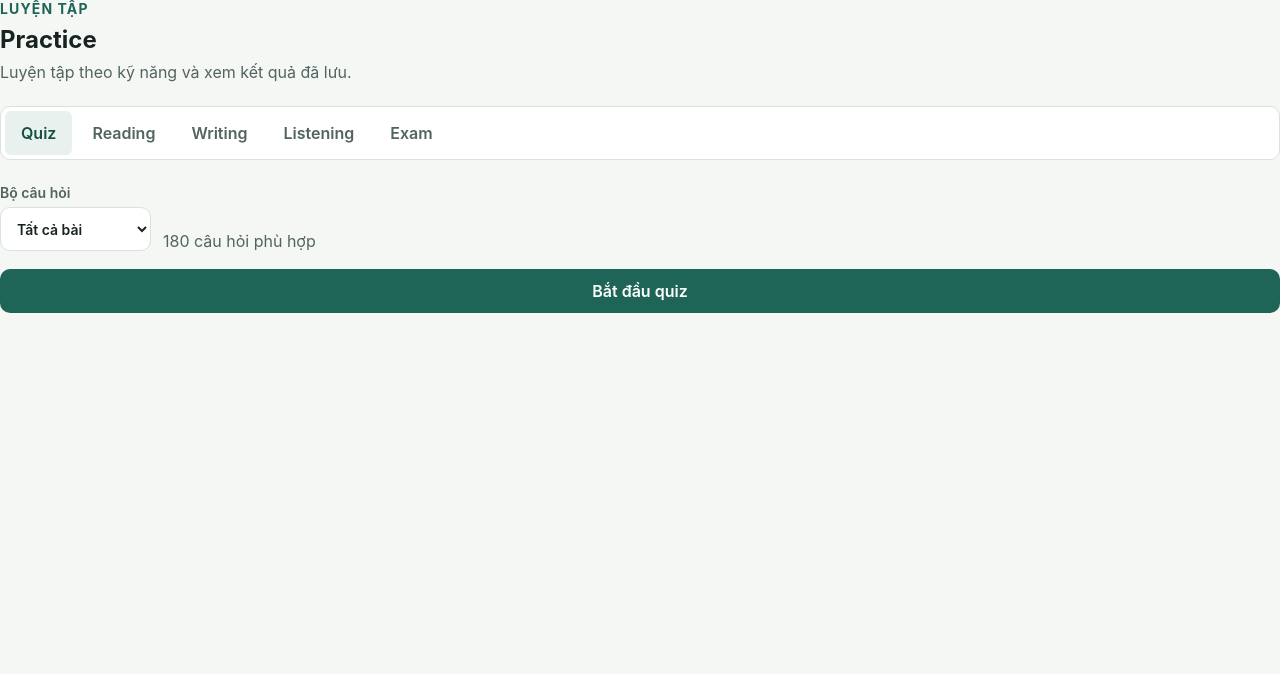
Test: PracticePage › renders a reading passage and reveals its translation
The image size is (1280, 674).
Click the tab "Reading" at (124, 133), box x1=76 y1=111 x2=171 y2=155
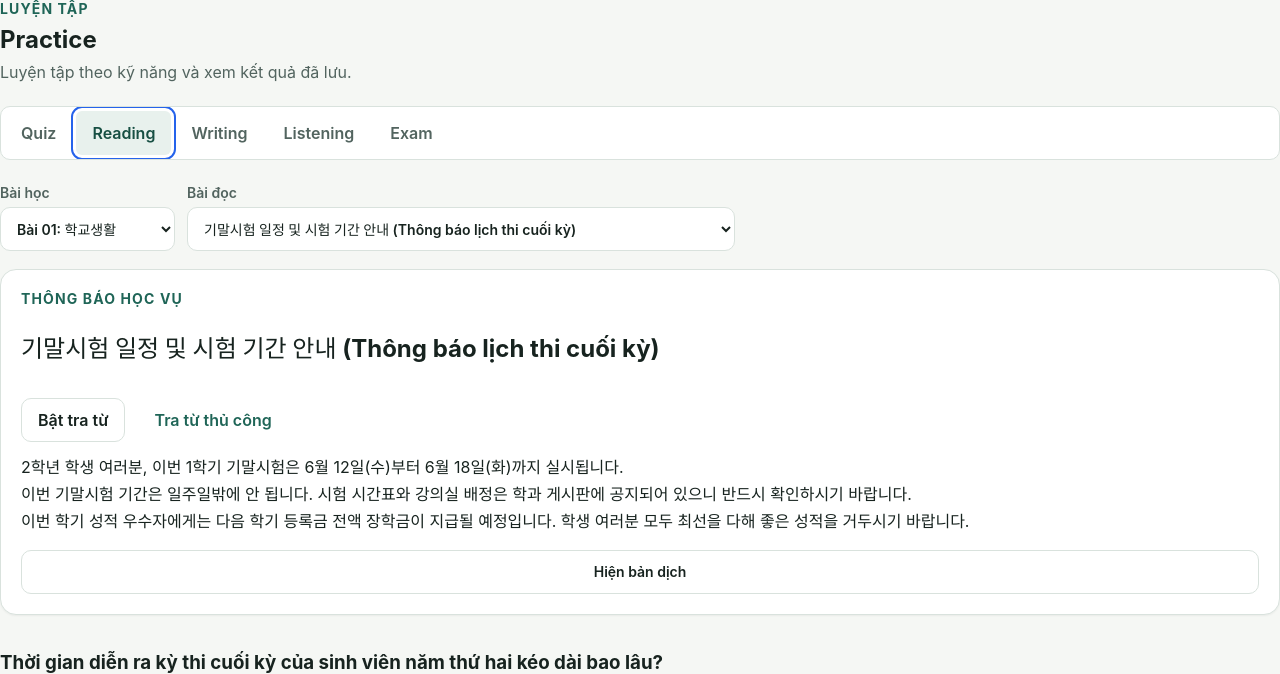
Expected: the heading "기말시험 일정 및 시험 기간 안내 (Thông báo lịch thi cuối kỳ)" is shown, x1=21 y1=334 x2=660 y2=363
Click the button "Hiện bản dịch" at (640, 572), box x1=21 y1=550 x2=1259 y2=594
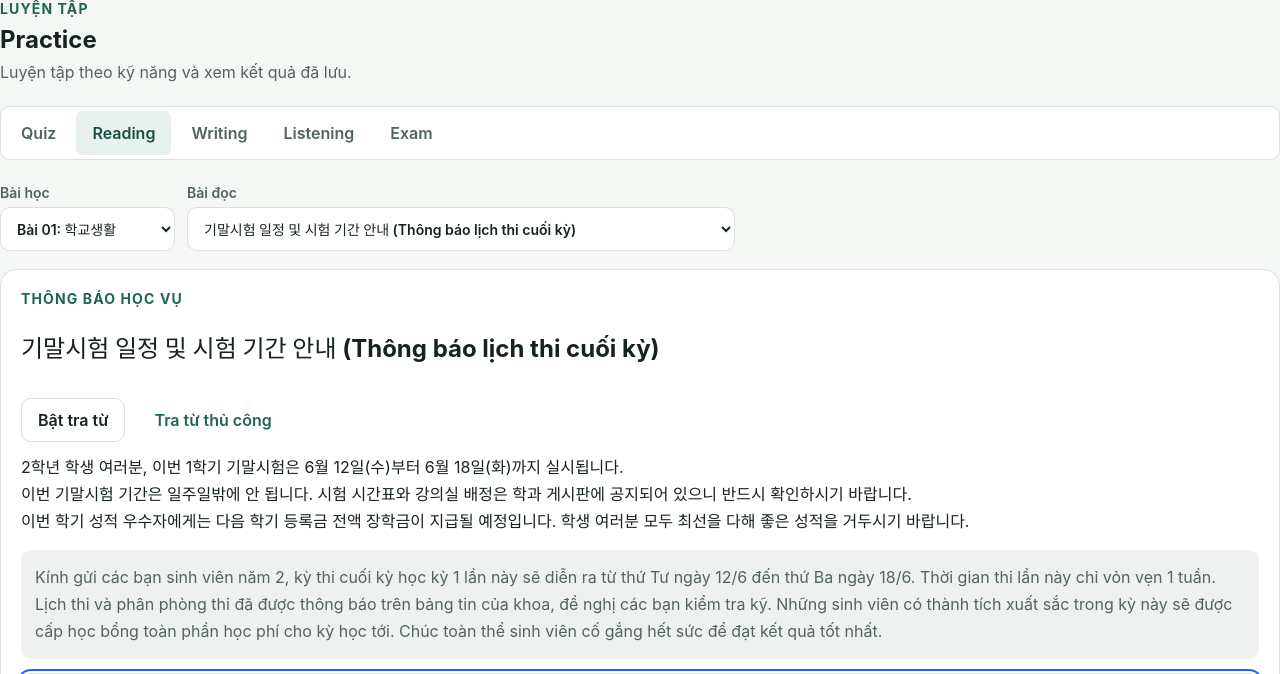
Expected: the text "Kính gửi các bạn sinh viên năm 2, kỳ thi cuối kỳ học kỳ 1 lần này sẽ diễn ra từ thứ Tư ngày 12/6 đến thứ Ba ngày 18/6. T" is shown, x1=35 y1=567 x2=1232 y2=641
